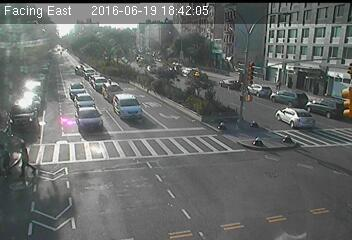neg: (138, 145, 157, 171), (108, 110, 126, 134), (266, 106, 284, 129), (225, 120, 240, 140), (200, 175, 215, 194), (149, 81, 162, 99), (91, 85, 104, 101), (185, 132, 196, 146)
pos: (8, 136, 37, 175), (273, 78, 282, 89)
